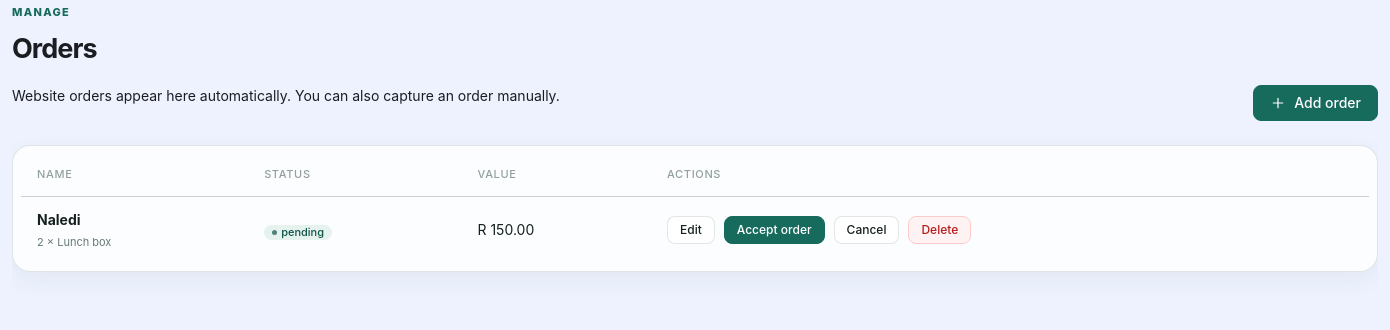
Test: lets the owner advance a website order through the kitchen pipeline
Click the button "Accept order" at (774, 230), box top-left (724, 216), bottom-right (825, 244)
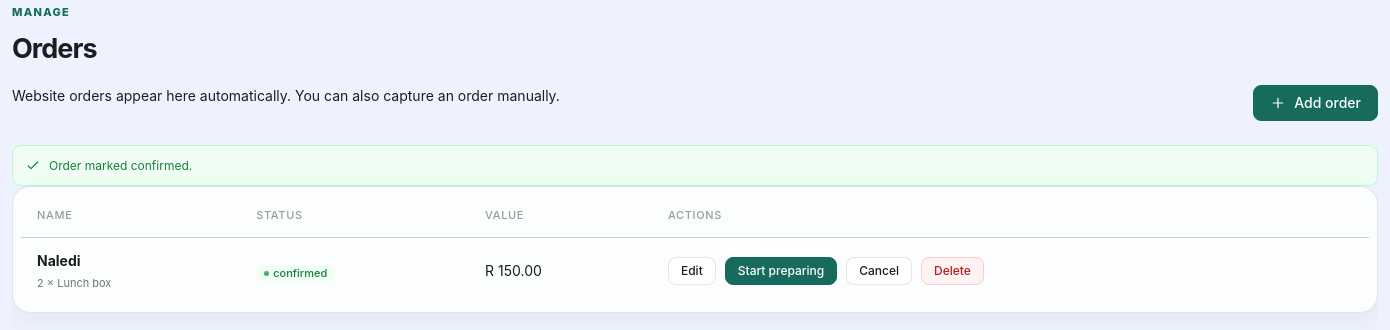
Click the button "Start preparing" at (781, 271), box top-left (725, 257), bottom-right (837, 285)
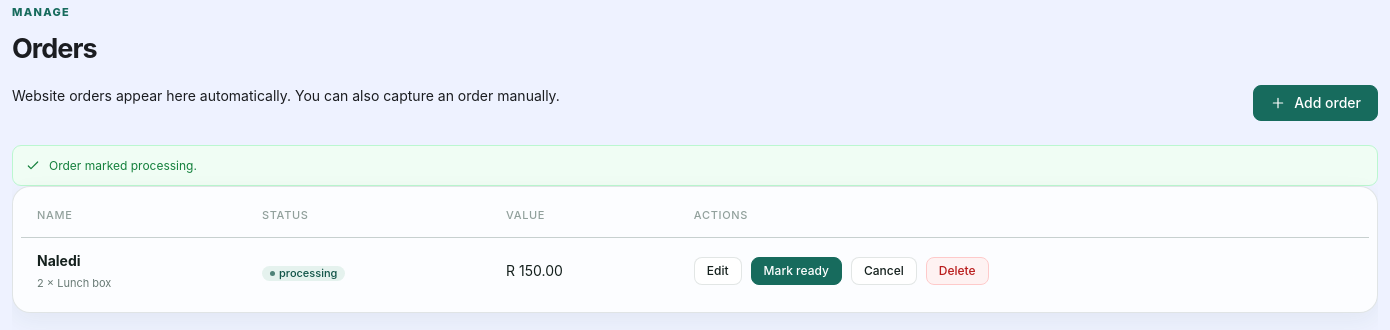
Click the button "Mark ready" at (796, 271), box top-left (751, 257), bottom-right (842, 285)
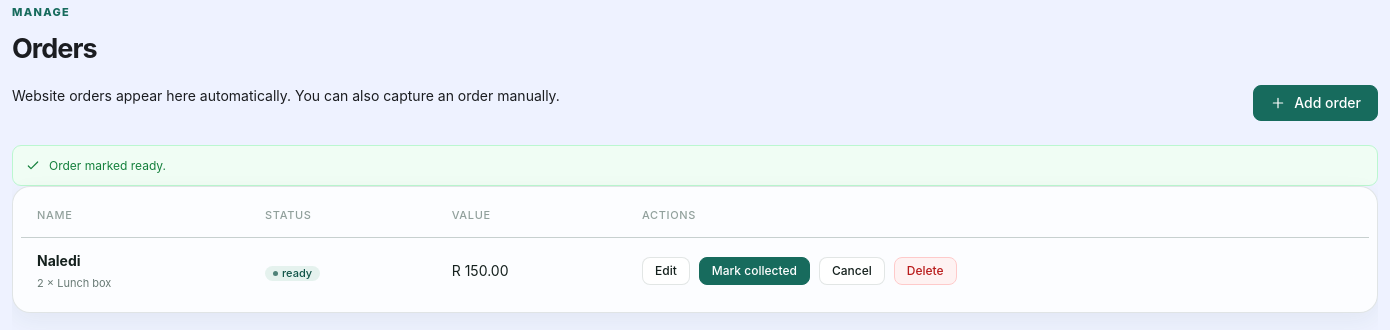
Expected: the button "Mark collected" is shown, top-left (699, 257), bottom-right (810, 285)
